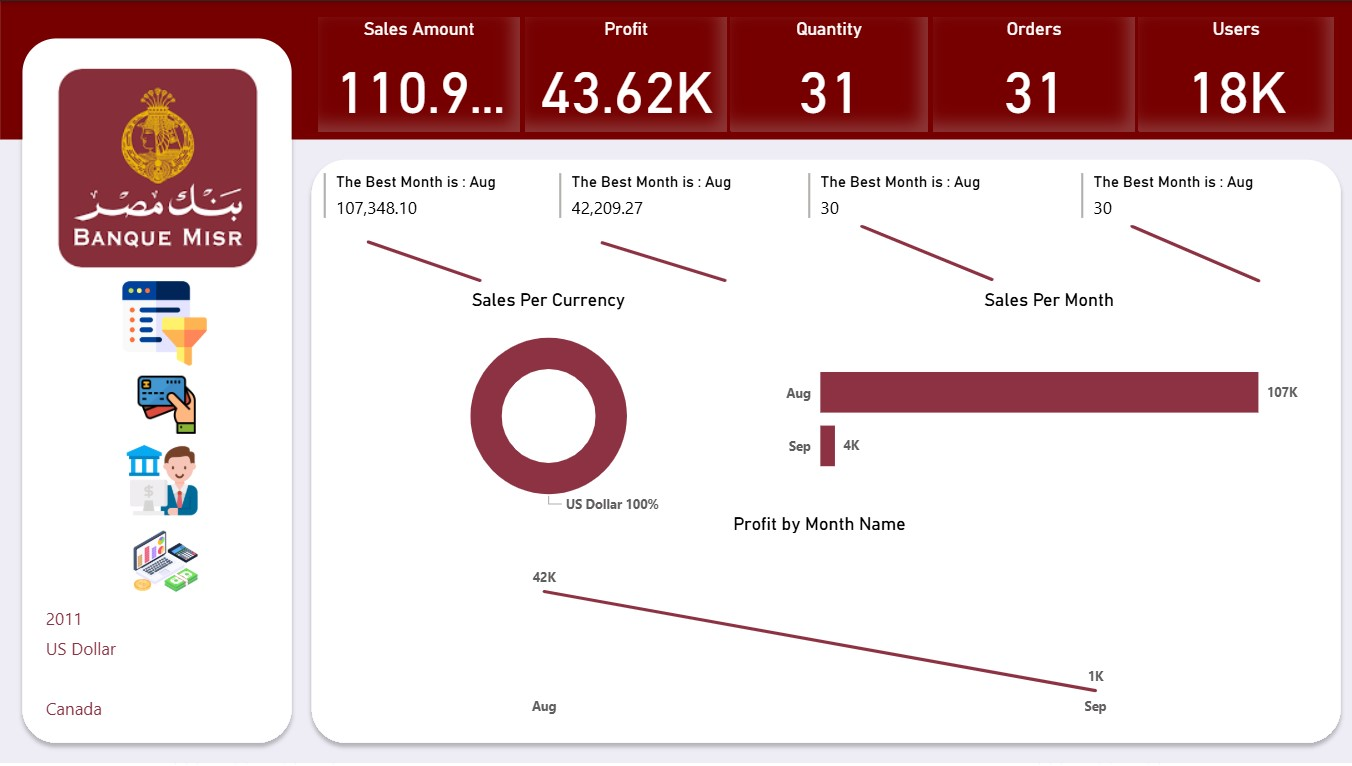

This screenshot's page, from the dashboard's own definition file:
{"tool":"powerbi","page":{"name":"Overview","canvas":[1280,720],"ordinal":0},"visuals":[{"type":"image","box":[47.3,56,201.5,201.5],"z":0},{"type":"donutChart","title":"Sales Per Currency","fields":{"Category":["dim_Currency.CurrencyName"],"Y":["Sum(fact_InternetSales.SalesAmount)"]},"box":[299,270,432.9,218.7],"z":1000},{"type":"clusteredBarChart","title":"Sales Per Month","fields":{"Category":["Calendar.Month Name"],"Y":["Sum(fact_InternetSales.SalesAmount)"]},"box":[732,270,508.8,218.7],"z":2000},{"type":"lineChart","fields":{"Category":["Calendar.Month Name"],"Y":["fact_InternetSales.Profit"]},"box":[298.5,480.1,942.8,200.2],"z":3000},{"type":"multiRowCard","fields":{"Values":["fact_InternetSales.Best Month","Sum(fact_InternetSales.SalesAmount)"]},"box":[298.5,156.2,199,113.2],"z":4000},{"type":"lineChart","fields":{"Y":["Sum(fact_InternetSales.SalesAmount)"],"Category":["Calendar.Month Name"]},"box":[298.5,197.8,199,72.1],"z":5000},{"type":"multiRowCard","fields":{"Values":["fact_InternetSales.Best Month","fact_InternetSales.Profit"]},"box":[520.7,156.2,210.6,113.4],"z":6000},{"type":"lineChart","fields":{"Category":["Calendar.Month Name"],"Y":["fact_InternetSales.Profit"]},"box":[514.9,197.8,217.7,72.1],"z":7000},{"type":"multiRowCard","fields":{"Values":["fact_InternetSales.Best Month","fact_InternetSales.SalesOrderNumber"]},"box":[754.5,156.2,232.6,113.4],"z":8000},{"type":"lineChart","fields":{"Category":["Calendar.Month Name"],"Y":["fact_InternetSales.Orders"]},"box":[756.1,197.8,230.3,71.8],"z":9000},{"type":"multiRowCard","fields":{"Values":["fact_InternetSales.Best Month","Sum(fact_InternetSales.OrderQuantity)"]},"box":[1010.3,156.2,224.5,113.4],"z":10000},{"type":"lineChart","fields":{"Category":["Calendar.Month Name"],"Y":["Sum(fact_InternetSales.OrderQuantity)"]},"box":[1010.3,197.8,224.5,72.9],"z":11000},{"type":"image","box":[82.1,411.7,141.8,77.1],"z":21000},{"type":"image","box":[78.4,488.8,153,74.6],"z":22000},{"type":"image","box":[73.4,347,166.7,64.7],"z":23000},{"type":"card","title":"Sales Amount","fields":{"Values":["Sum(fact_InternetSales.SalesAmount)"]},"box":[298.8,16,190.1,107],"z":24000},{"type":"card","title":"Users","fields":{"Values":["dim_Customer.All users"]},"box":[1070.4,16,183.7,107],"z":25000},{"type":"card","title":"Orders","fields":{"Values":["fact_InternetSales.Orders"]},"box":[876.3,16,190.1,107],"z":26000},{"type":"card","title":"Quantity","fields":{"Values":["Sum(fact_InternetSales.OrderQuantity)"]},"box":[687,16,185.3,107],"z":27000},{"type":"card","title":"Profit","fields":{"Values":["fact_InternetSales.Profit"]},"box":[492.9,16,190.1,107],"z":28000},{"type":"multiRowCard","fields":{"Values":["fact_InternetSales.yearfilter","fact_InternetSales.currencynamefilter","fact_InternetSales.englishproductfilter","fact_InternetSales.territorycountryfilter"]},"box":[38.6,563.4,227.6,125.6],"z":29000},{"type":"image","box":[80.8,257.5,149.3,89.6],"z":30000}]}

Visuals, with their boxes in screenshot pixels (x1, y1, x2, y2), scaled from the page's 1280x720 canvas onto the 1352x766 screenshot:
image: {"x1": 50, "y1": 60, "x2": 263, "y2": 274}
"Sales Per Currency" donutChart: {"x1": 316, "y1": 287, "x2": 773, "y2": 520}
"Sales Per Month" clusteredBarChart: {"x1": 773, "y1": 287, "x2": 1311, "y2": 520}
lineChart - Calendar.Month Name x fact_InternetSales.Profit: {"x1": 315, "y1": 511, "x2": 1311, "y2": 724}
multiRowCard - fact_InternetSales.Best Month x Sum(fact_InternetSales.SalesAmount): {"x1": 315, "y1": 166, "x2": 525, "y2": 287}
lineChart - Sum(fact_InternetSales.SalesAmount) x Calendar.Month Name: {"x1": 315, "y1": 210, "x2": 525, "y2": 287}
multiRowCard - fact_InternetSales.Best Month x fact_InternetSales.Profit: {"x1": 550, "y1": 166, "x2": 772, "y2": 287}
lineChart - Calendar.Month Name x fact_InternetSales.Profit: {"x1": 544, "y1": 210, "x2": 774, "y2": 287}
multiRowCard - fact_InternetSales.Best Month x fact_InternetSales.SalesOrderNumber: {"x1": 797, "y1": 166, "x2": 1043, "y2": 287}
lineChart - Calendar.Month Name x fact_InternetSales.Orders: {"x1": 799, "y1": 210, "x2": 1042, "y2": 287}
multiRowCard - fact_InternetSales.Best Month x Sum(fact_InternetSales.OrderQuantity): {"x1": 1067, "y1": 166, "x2": 1304, "y2": 287}
lineChart - Calendar.Month Name x Sum(fact_InternetSales.OrderQuantity): {"x1": 1067, "y1": 210, "x2": 1304, "y2": 288}
image: {"x1": 87, "y1": 438, "x2": 236, "y2": 520}
image: {"x1": 83, "y1": 520, "x2": 244, "y2": 599}
image: {"x1": 78, "y1": 369, "x2": 254, "y2": 438}
"Sales Amount" card: {"x1": 316, "y1": 17, "x2": 516, "y2": 131}
"Users" card: {"x1": 1131, "y1": 17, "x2": 1325, "y2": 131}
"Orders" card: {"x1": 926, "y1": 17, "x2": 1126, "y2": 131}
"Quantity" card: {"x1": 726, "y1": 17, "x2": 921, "y2": 131}
"Profit" card: {"x1": 521, "y1": 17, "x2": 721, "y2": 131}
multiRowCard - fact_InternetSales.yearfilter x fact_InternetSales.currencynamefilter: {"x1": 41, "y1": 599, "x2": 281, "y2": 733}
image: {"x1": 85, "y1": 274, "x2": 243, "y2": 369}
